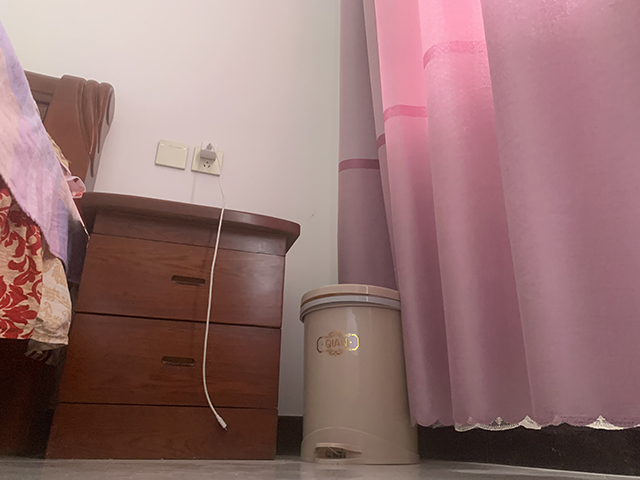cabinet: (42, 190, 302, 461)
curtain: (337, 1, 640, 434)
trashcan: (295, 284, 421, 466)
